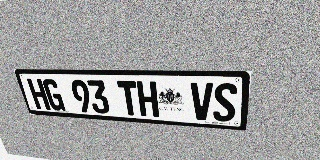3: (86, 80, 110, 114)
9: (69, 79, 93, 113)
G: (42, 79, 66, 111)
H: (136, 81, 159, 117), (26, 78, 51, 110)
S: (213, 83, 238, 122)
T: (117, 81, 140, 116)
V: (191, 82, 213, 121)
